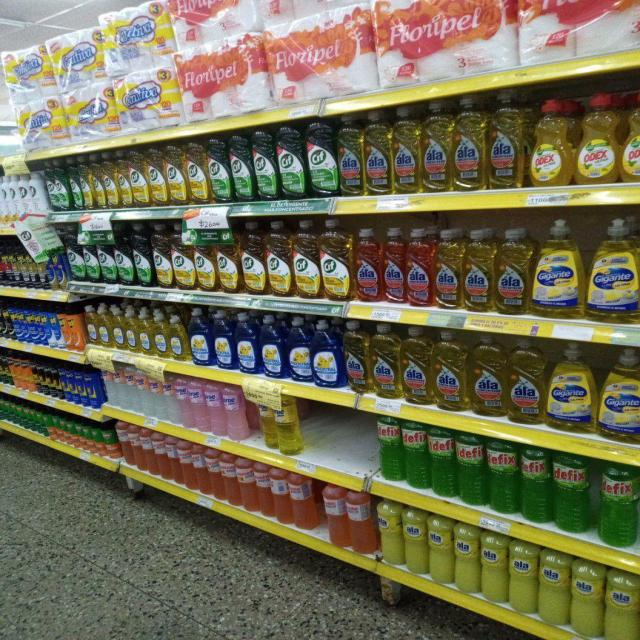ala_conc_amarillo: (488, 90, 527, 189), (507, 338, 546, 424), (495, 226, 531, 316), (453, 95, 486, 192), (432, 329, 468, 412), (470, 334, 505, 418), (422, 99, 451, 193), (463, 228, 494, 313), (401, 326, 432, 405), (393, 105, 420, 195), (364, 109, 392, 195), (434, 228, 462, 310), (338, 113, 363, 197), (372, 322, 399, 398), (344, 320, 370, 395)
ala_conc_rojo: (406, 227, 433, 307), (355, 226, 381, 302), (382, 226, 405, 305)
ala_crem_amarillo: (604, 569, 640, 640), (571, 560, 603, 638), (538, 550, 570, 626), (509, 541, 537, 615), (481, 532, 507, 604), (454, 524, 479, 594), (429, 515, 452, 584), (404, 508, 427, 576)
cif_conc_bot_amarilla: (320, 220, 352, 302), (293, 219, 320, 299), (266, 220, 292, 298), (241, 221, 265, 296), (217, 222, 240, 294), (173, 222, 194, 291), (195, 224, 216, 292), (152, 223, 172, 289), (187, 141, 207, 205), (166, 144, 186, 206), (148, 146, 165, 208), (130, 149, 147, 208), (104, 152, 117, 209), (118, 150, 130, 208), (92, 154, 104, 209), (82, 155, 92, 210)
cif_conc_botella_verde: (307, 118, 336, 198), (278, 124, 305, 200), (254, 130, 276, 202), (208, 137, 230, 204), (231, 134, 252, 203), (133, 222, 151, 287), (49, 159, 69, 212), (98, 224, 115, 284), (116, 223, 132, 285), (67, 228, 83, 282), (84, 226, 98, 283), (69, 157, 81, 211)
gigante: (587, 216, 639, 323), (533, 218, 583, 319), (547, 342, 595, 432), (598, 347, 640, 444)
heroe: (226, 384, 250, 440), (144, 370, 164, 420), (208, 382, 225, 436), (191, 379, 208, 432), (134, 367, 150, 417), (176, 376, 191, 428), (162, 372, 176, 423)
magistral_con_amarillo: (170, 314, 188, 362), (153, 312, 168, 358), (138, 310, 152, 356), (84, 305, 98, 346), (125, 309, 138, 353), (112, 307, 124, 350), (99, 306, 111, 348)
magistral_con_azul: (313, 319, 343, 388), (286, 316, 312, 383), (260, 314, 284, 378), (236, 311, 258, 375), (190, 308, 212, 366), (213, 310, 234, 370)
odex: (575, 93, 619, 184), (529, 98, 572, 186), (621, 87, 640, 182)
vencedor: (348, 491, 376, 555), (290, 472, 318, 530), (322, 484, 348, 546), (177, 441, 200, 490), (237, 456, 257, 512), (270, 468, 290, 524), (154, 432, 177, 480), (220, 452, 240, 506), (189, 444, 210, 493), (205, 448, 224, 499), (255, 463, 272, 518), (139, 428, 157, 474), (126, 426, 144, 470)
